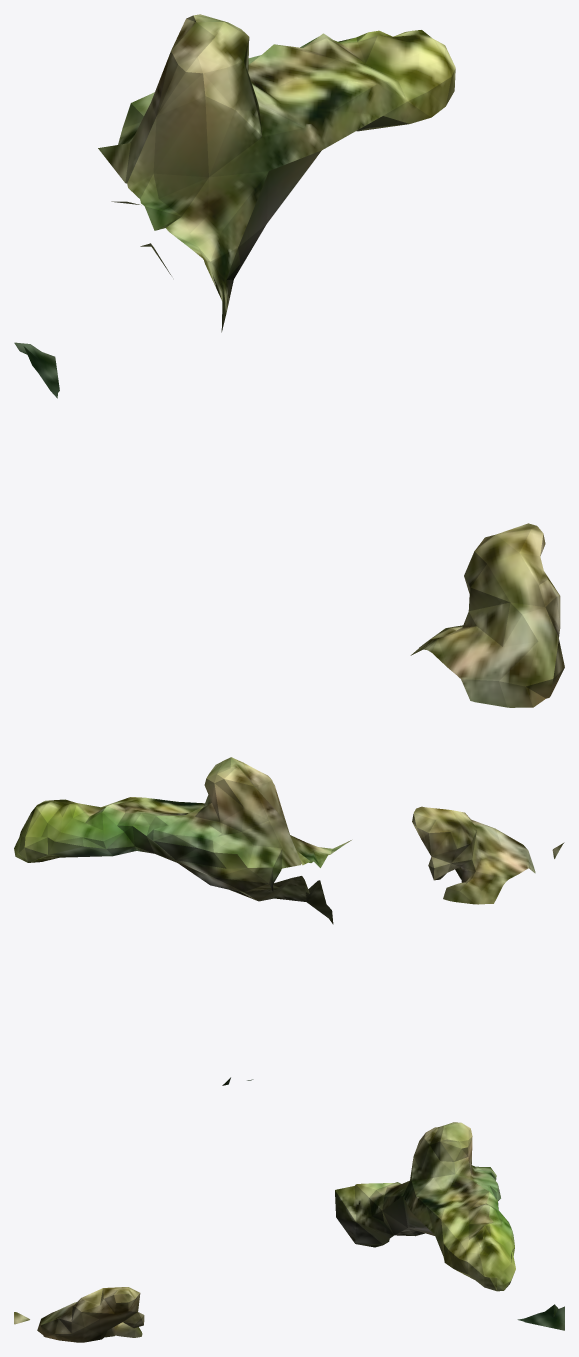
The picture shows the model from 3 angles, top to bottom: view 1: azimuth 30°, elevation 25°; view 2: azimuth 150°, elevation 25°; view 3: azimuth 270°, elevation 25°; orthographic projection. The views are drawn at different scales.
Bounding box in the file's own units: 0.7127 × 0.7404 × 1.67.
1 material, 1 textured.
